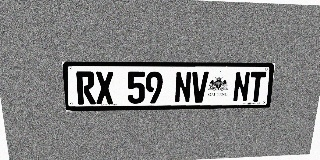5: (127, 71, 145, 104)
9: (146, 71, 163, 103)
N: (174, 71, 192, 103), (232, 72, 251, 102)
R: (76, 71, 96, 105)
T: (248, 72, 266, 102)
V: (191, 72, 209, 103)
X: (95, 71, 114, 104)
